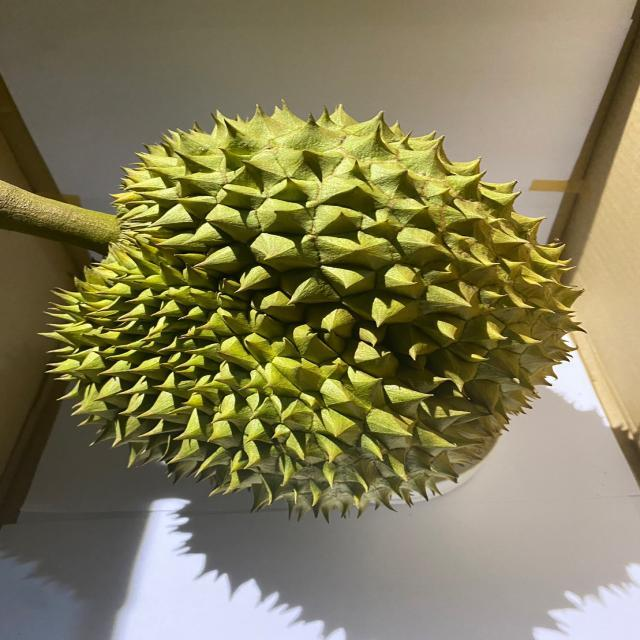immature: (37, 99, 593, 523)
